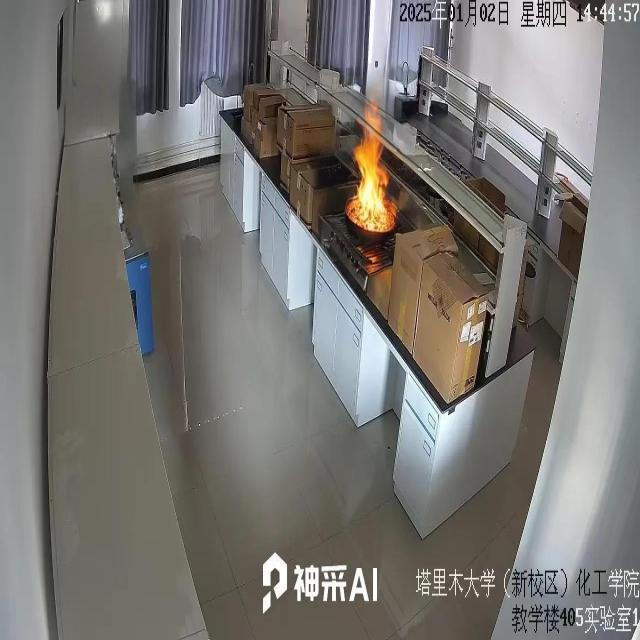smoke: (346, 102, 396, 236)
